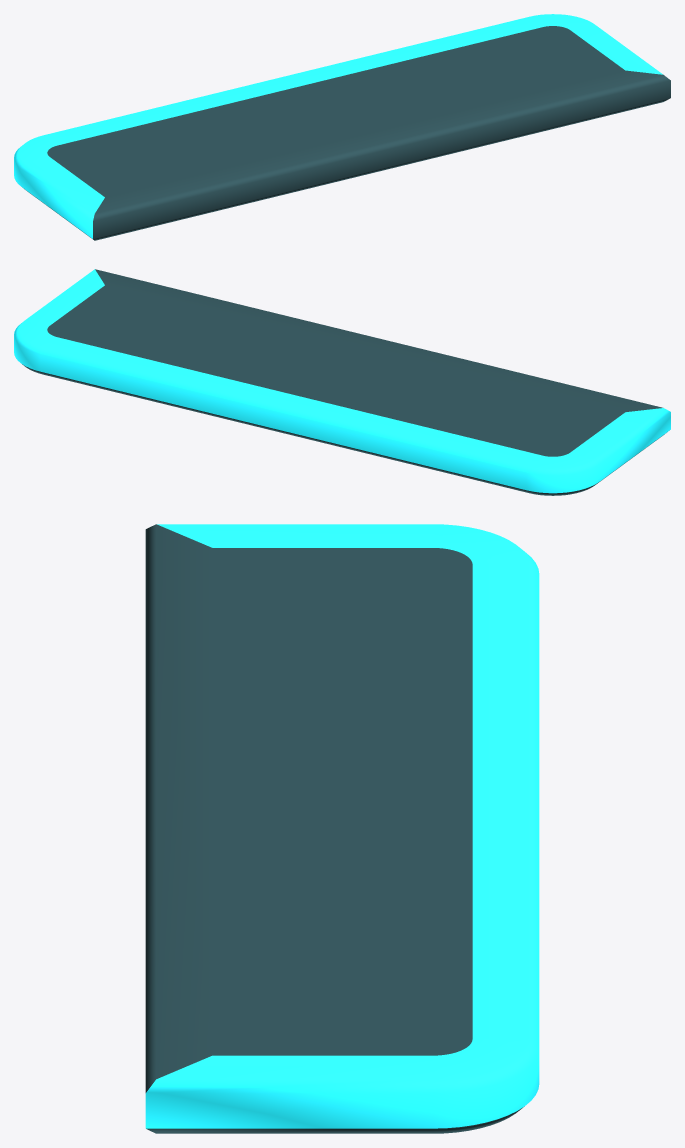
File: d06_entertainment_hall_03.glb
3 renders of one model, top to bottom at view 1: azimuth 30°, elevation 25°; view 2: azimuth 150°, elevation 25°; view 3: azimuth 270°, elevation 25°, orthographic. The views are drawn at different scales.
Parts seen in each view (by area): view 1: D06EntertainmentHall03_Mesh; view 2: D06EntertainmentHall03_Mesh; view 3: D06EntertainmentHall03_Mesh.
Part boxes in pixels (x1,y1,x2,y2): D06EntertainmentHall03_Mesh: (14,14,670,240); D06EntertainmentHall03_Mesh: (14,269,670,495); D06EntertainmentHall03_Mesh: (145,524,539,1133).
Bounding box in the file's own units: 10 × 0.45 × 2.95.
